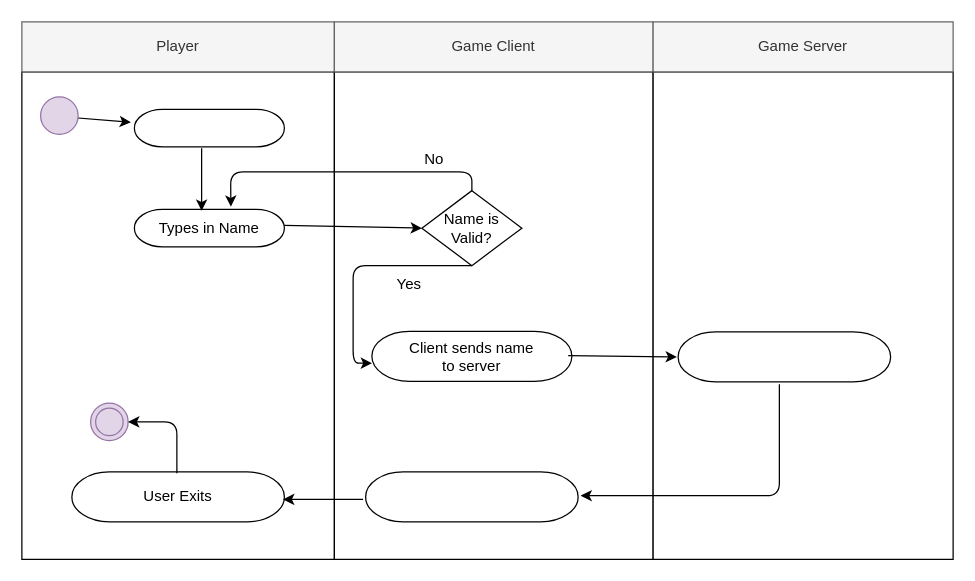
Image size: 975x581. Some labels were removed from this diagram. Each missing label, with the centre of its shape:
"Client displays connection confirmation" belongs at [471,496].
"Opens Website" belongs at [208,127].
"Server records name" belongs at [784,356].
